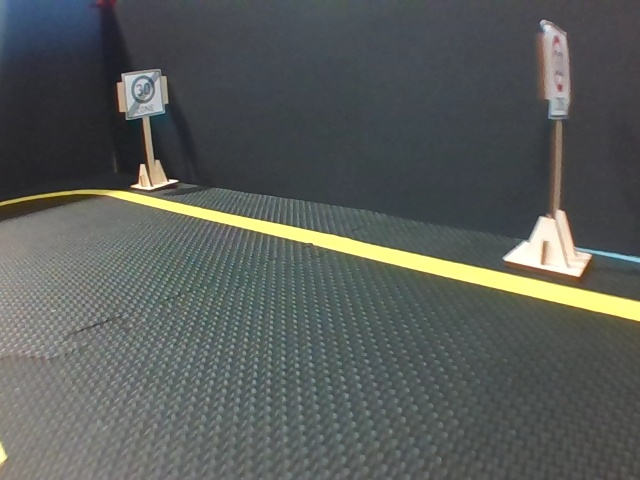30: (543, 21, 569, 112)
no30: (122, 73, 161, 115)
